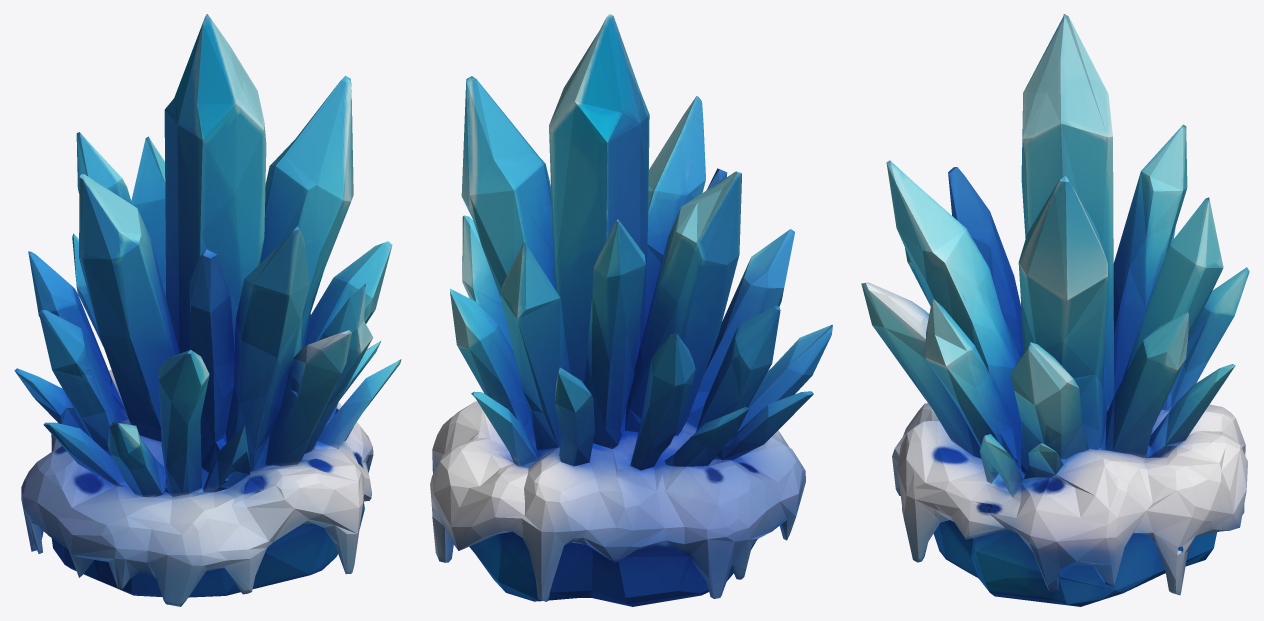
Rendered from snow_icespikes.glb.
The picture shows the model from 3 angles, left to right: view 1: azimuth 30°, elevation 25°; view 2: azimuth 150°, elevation 25°; view 3: azimuth 270°, elevation 25°; orthographic projection.
Visible parts, largest first — view 1: world; view 2: world; view 3: world.
Boxes of the visible parts, box(x1,y1,x2,y2) form: world: box(14, 14, 401, 606); world: box(430, 14, 832, 606); world: box(861, 14, 1249, 606).
Bounding box in the file's own units: 0.658 × 0.9674 × 0.6389.
Materials: 1 (1 with a texture image).
